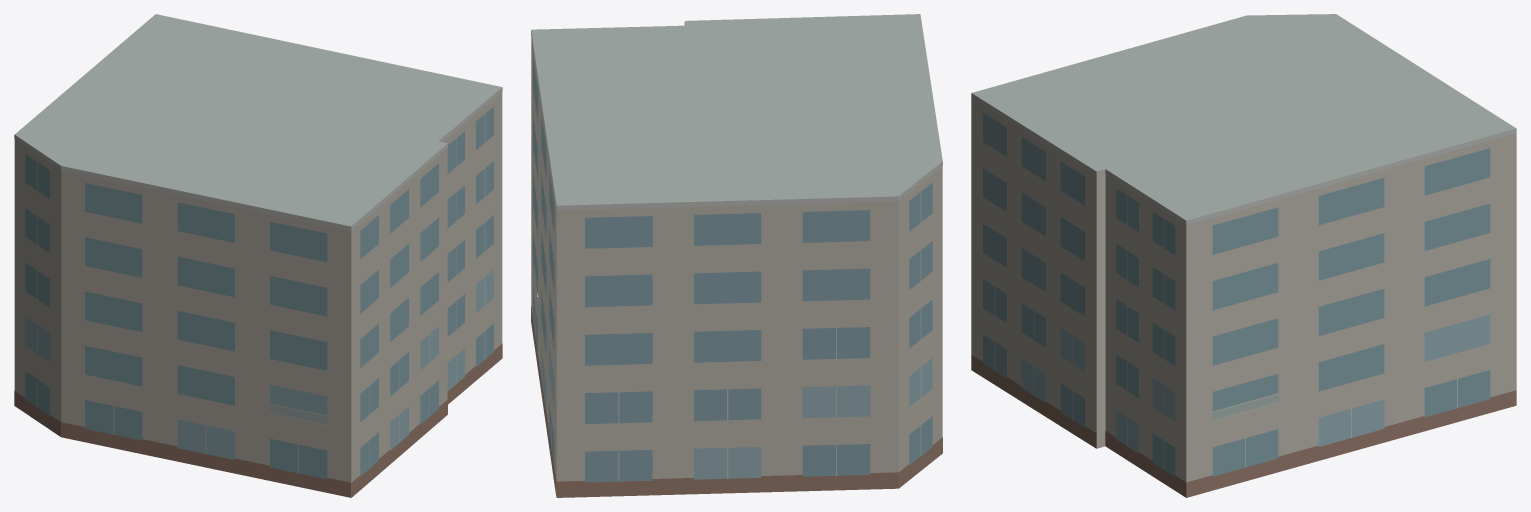
The model's file is survey-upis-32624709.glb.
The picture shows the model from 3 angles, left to right: view 1: azimuth 30°, elevation 25°; view 2: azimuth 150°, elevation 25°; view 3: azimuth 270°, elevation 25°; orthographic projection. The views are drawn at different scales.
Parts seen in each view (by area): view 1: survey-upis-32624709.tmp; view 2: survey-upis-32624709.tmp; view 3: survey-upis-32624709.tmp.
Boxes of the visible parts, left/top/right/bottom form: survey-upis-32624709.tmp: left=14, top=14, right=502, bottom=497; survey-upis-32624709.tmp: left=531, top=14, right=942, bottom=497; survey-upis-32624709.tmp: left=971, top=14, right=1516, bottom=497.
Bounding box in the file's own units: 23.36 × 14.6 × 26.03.
